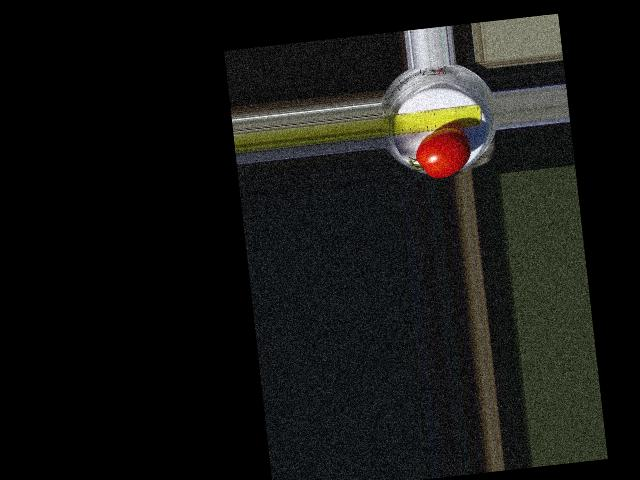tomato: (412, 124, 473, 180)
